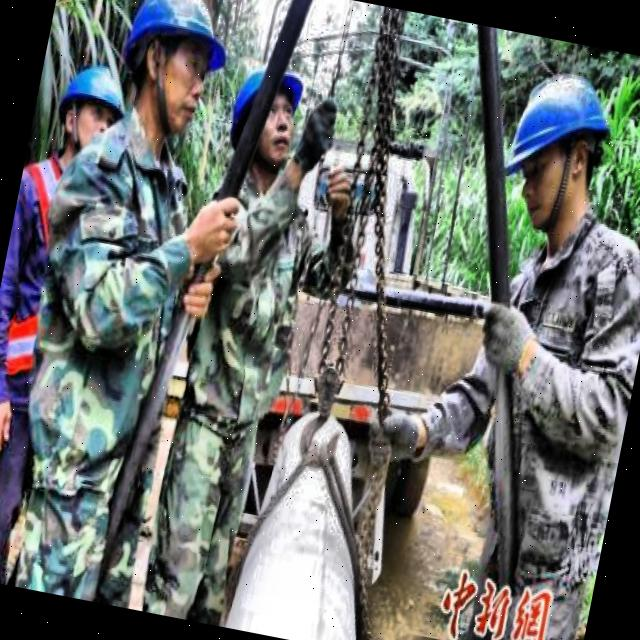helmet: (484, 45, 632, 253), (110, 0, 246, 154), (43, 49, 139, 170), (220, 51, 310, 172)
